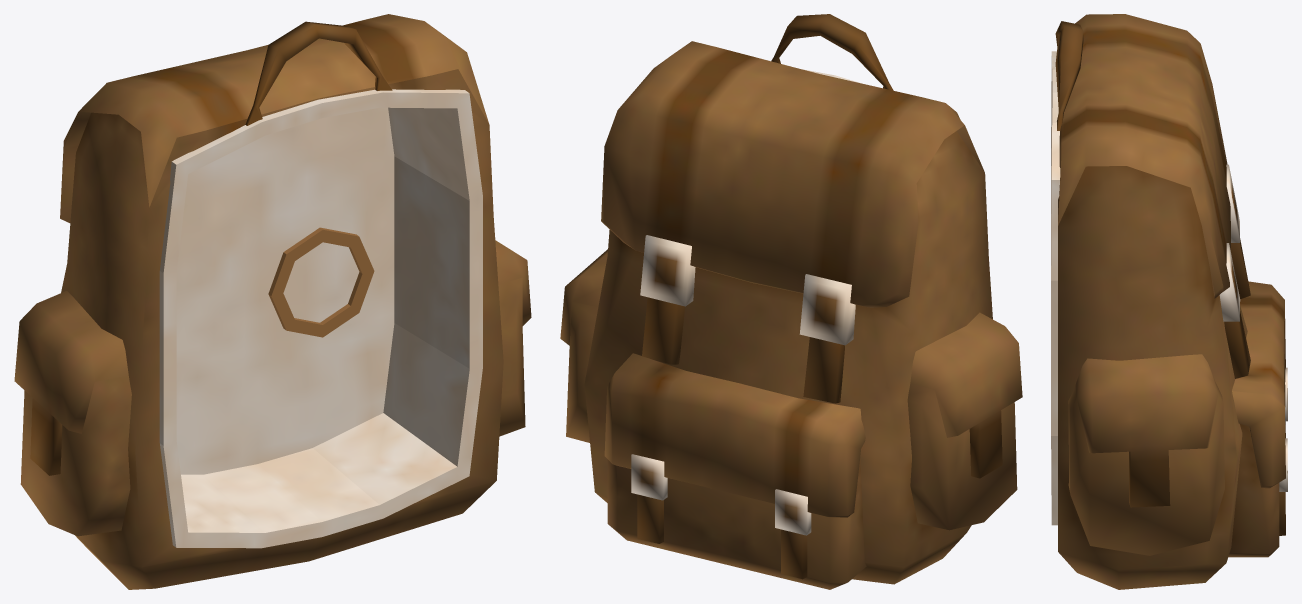
Rendered from Bag_Default.fbx.
The picture shows the model from 3 angles, left to right: view 1: azimuth 30°, elevation 25°; view 2: azimuth 150°, elevation 25°; view 3: azimuth 270°, elevation 25°; orthographic projection. The views are drawn at different scales.
Parts seen in each view (by area): view 1: BagDefault, Slot; view 2: BagDefault; view 3: BagDefault.
Part boxes in pixels (x1,y1,x2,y2): BagDefault: [14, 14, 531, 589]; Slot: [268, 227, 374, 337]; BagDefault: [560, 14, 1022, 589]; BagDefault: [1051, 14, 1287, 589].
Bounding box in the file's own units: 52.55 × 60.6 × 25.85.
